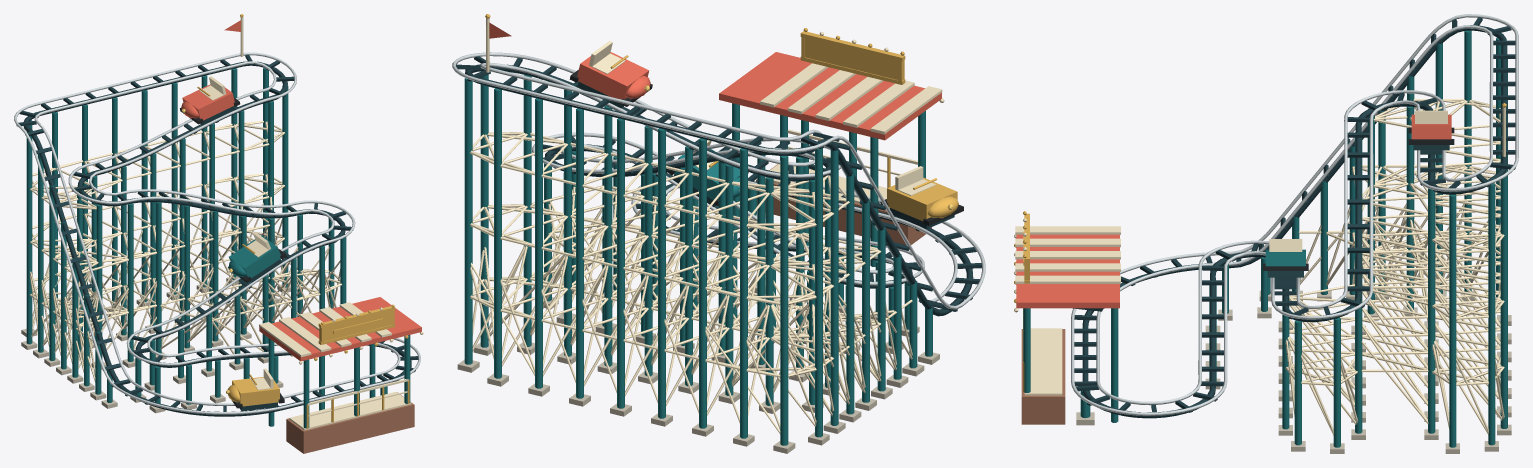
The model's file is ride_mouse.glb.
The picture shows the model from 3 angles, left to right: view 1: azimuth 30°, elevation 25°; view 2: azimuth 150°, elevation 25°; view 3: azimuth 270°, elevation 25°; orthographic projection. The views are drawn at different scales.
Parts seen in each view (by area): view 1: ride_mouse; view 2: ride_mouse; view 3: ride_mouse.
Boxes of the visible parts, x1,y1,x2,y2 form: ride_mouse: [14, 14, 423, 453]; ride_mouse: [452, 14, 985, 453]; ride_mouse: [1014, 14, 1518, 453].
Bounding box in the file's own units: 10.8 × 10.1 × 13.86.
